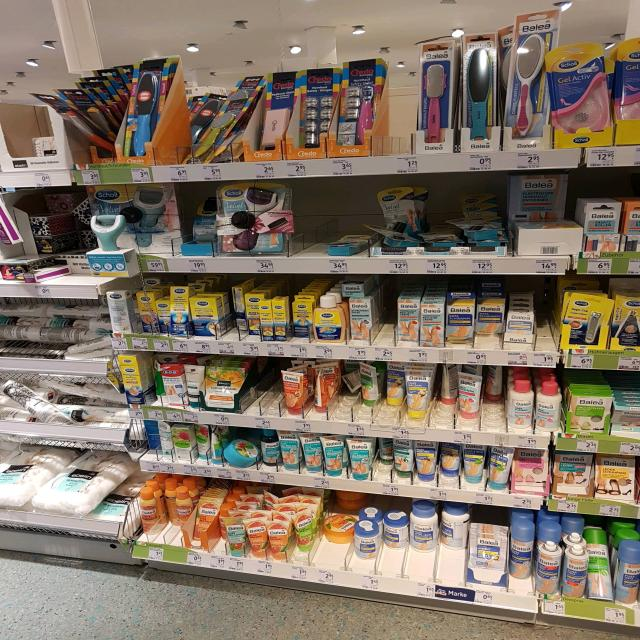void: (388, 36, 413, 152), (293, 182, 324, 258), (253, 364, 279, 418)
